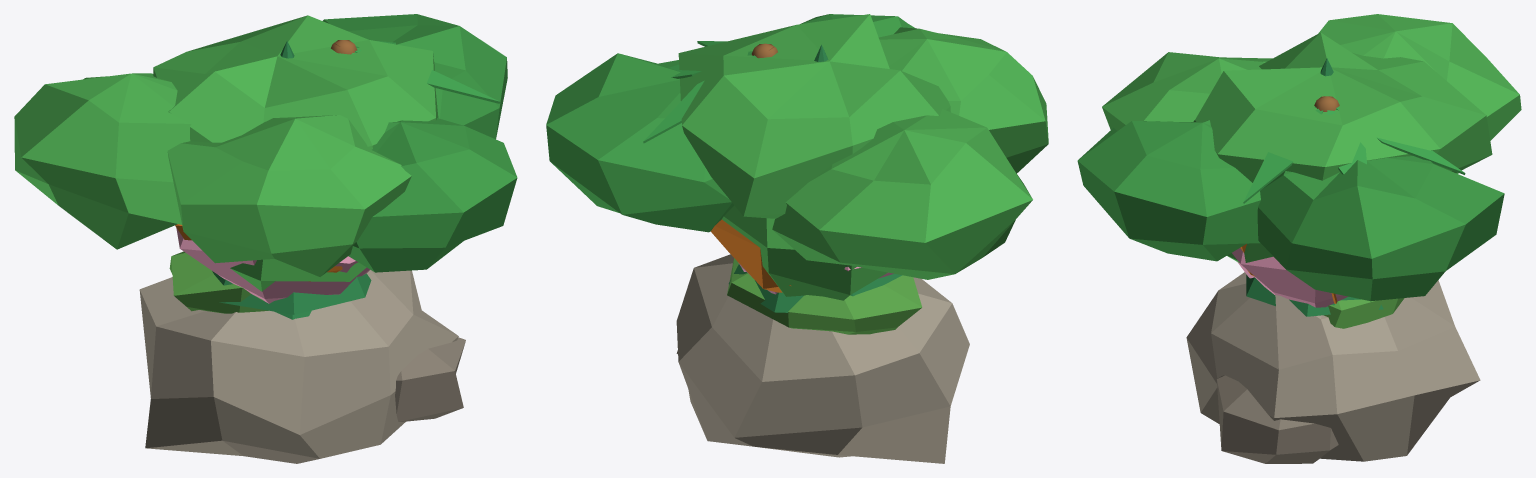
File: w_props.glb
3 renders of one model, left to right at view 1: azimuth 30°, elevation 25°; view 2: azimuth 150°, elevation 25°; view 3: azimuth 270°, elevation 25°, orthographic. The views are drawn at different scales.
Visible parts, largest first — view 1: bigtree|Body_Leaf, boulder|Body_Rock, bigtree|Body_Leaf2, boulder|Body_RockDark, boulder|Body_Moss, bloom|Body_Pink, pine|Body_Pine, tree|Body_Leaf, palm|Body_Palm; view 2: bigtree|Body_Leaf, boulder|Body_Rock, bigtree|Body_Leaf2, boulder|Body_Moss, tree|Body_Leaf, autumn|Body_Autumn, pine|Body_Pine, palm|Body_Palm; view 3: bigtree|Body_Leaf2, bigtree|Body_Leaf, boulder|Body_Rock, boulder|Body_RockDark, bloom|Body_Pink, palm|Body_Palm, boulder|Body_Moss, pine|Body_Pine, tree|Body_Leaf.
Boxes of the visible parts, left/top/right/bottom form: bigtree|Body_Leaf: left=14, top=15, right=438, bottom=276; boulder|Body_Rock: left=139, top=270, right=458, bottom=463; bigtree|Body_Leaf2: left=323, top=14, right=517, bottom=272; boulder|Body_RockDark: left=395, top=337, right=465, bottom=421; boulder|Body_Moss: left=169, top=251, right=268, bottom=313; bloom|Body_Pink: left=176, top=228, right=369, bottom=303; pine|Body_Pine: left=212, top=41, right=371, bottom=319; tree|Body_Leaf: left=230, top=259, right=366, bottom=300; palm|Body_Palm: left=352, top=41, right=499, bottom=103; bigtree|Body_Leaf: left=678, top=14, right=1048, bottom=279; boulder|Body_Rock: left=676, top=254, right=969, bottom=463; bigtree|Body_Leaf2: left=546, top=14, right=915, bottom=232; boulder|Body_Moss: left=727, top=258, right=922, bottom=334; tree|Body_Leaf: left=722, top=205, right=887, bottom=300; autumn|Body_Autumn: left=711, top=219, right=790, bottom=292; pine|Body_Pine: left=728, top=45, right=901, bottom=312; palm|Body_Palm: left=643, top=41, right=756, bottom=143; bigtree|Body_Leaf2: left=1077, top=120, right=1504, bottom=301; bigtree|Body_Leaf: left=1102, top=14, right=1521, bottom=182; boulder|Body_Rock: left=1186, top=272, right=1480, bottom=461; boulder|Body_RockDark: left=1217, top=375, right=1338, bottom=463; bloom|Body_Pink: left=1232, top=248, right=1347, bottom=307; palm|Body_Palm: left=1243, top=106, right=1465, bottom=203; boulder|Body_Moss: left=1324, top=298, right=1404, bottom=328; pine|Body_Pine: left=1246, top=58, right=1383, bottom=316; tree|Body_Leaf: left=1227, top=243, right=1272, bottom=262.
Bounding box in the file's own units: 4.28 × 3.25 × 3.59.
